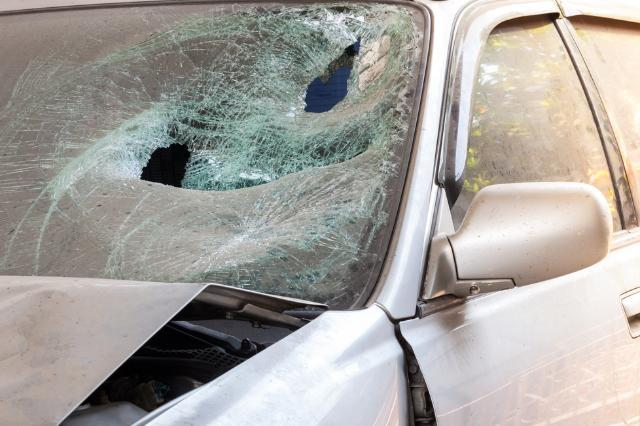Bonnet: (0, 271, 344, 426)
Door: (393, 316, 640, 426)
Windshield: (0, 4, 385, 286)
